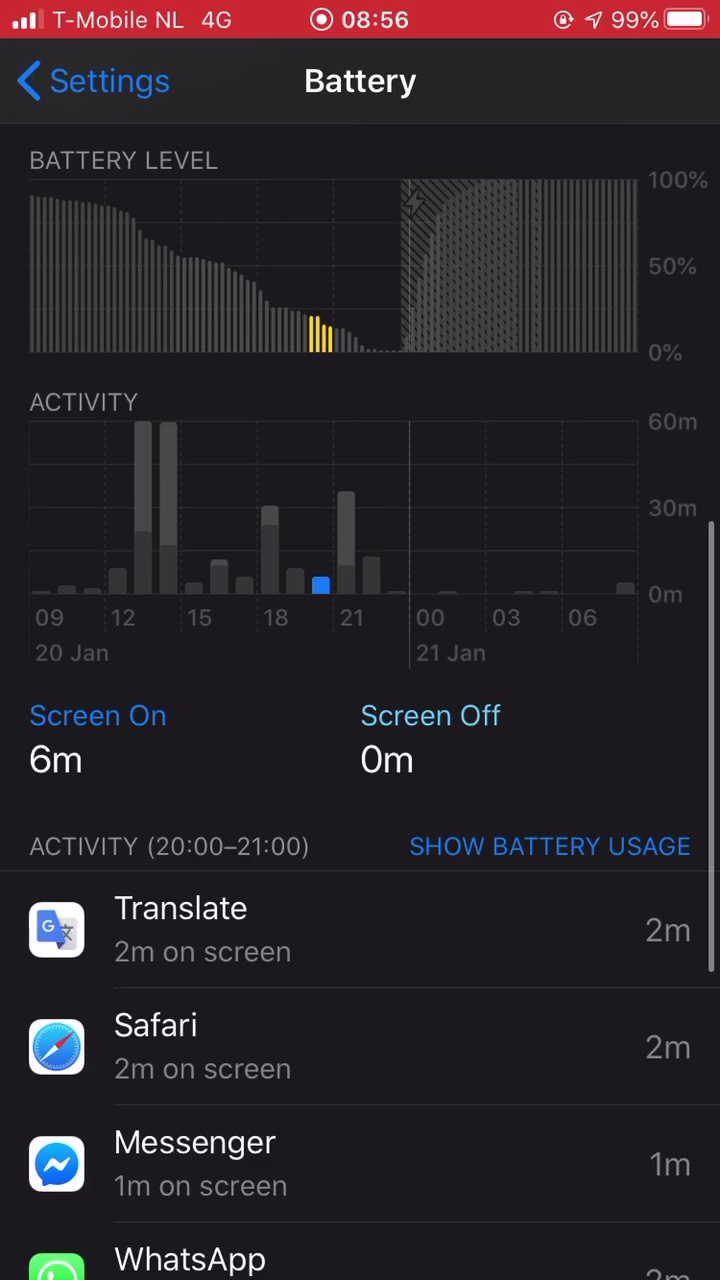activity: (15, 826, 326, 863)
app: (13, 883, 699, 977), (15, 999, 701, 1093), (17, 1116, 703, 1210)
